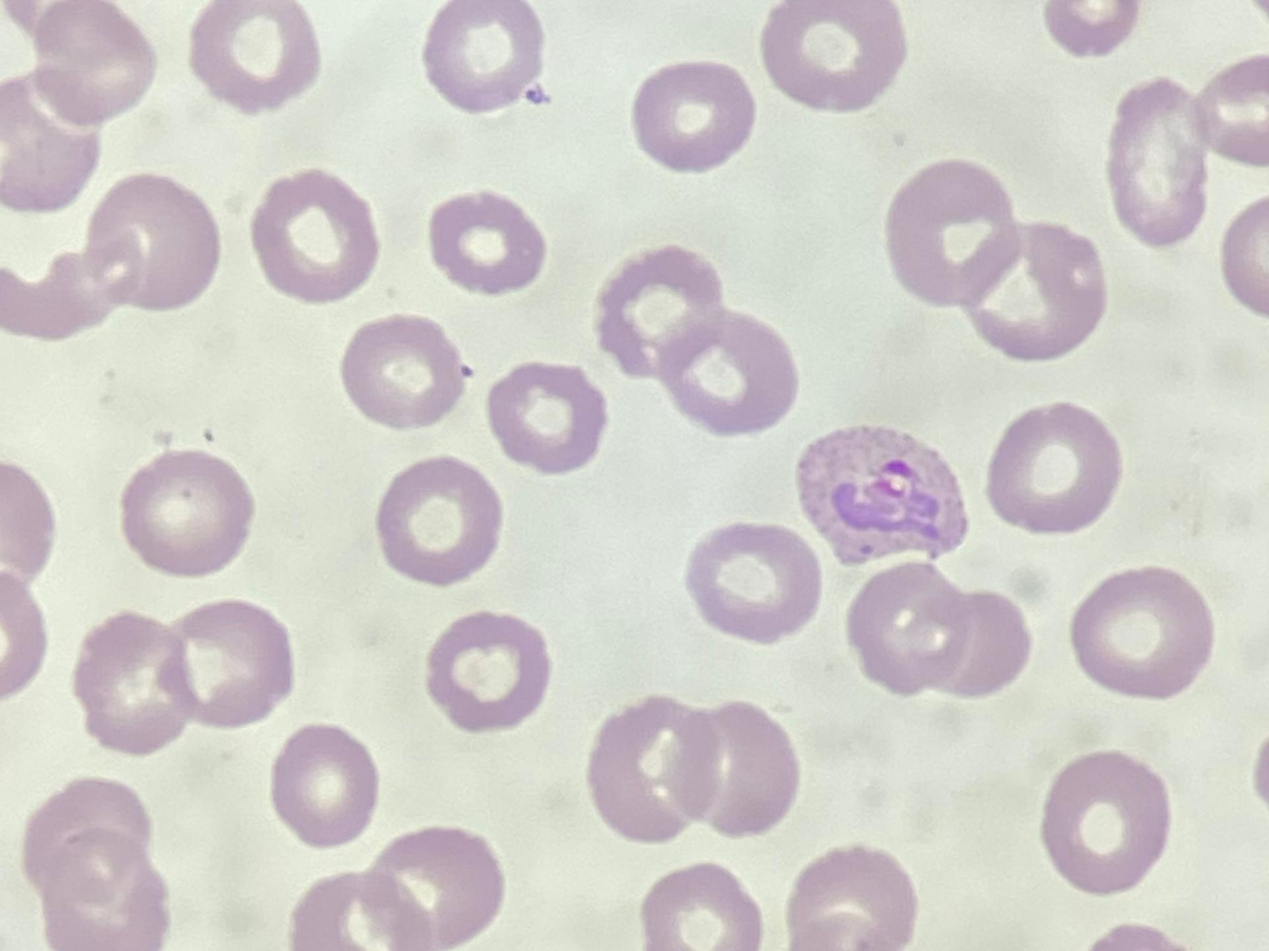Infected: (301, 385, 471, 525)
Uninfected: (162, 590, 303, 732), (247, 645, 384, 789), (545, 108, 679, 249), (56, 251, 197, 383), (101, 55, 227, 196), (471, 515, 611, 640), (1050, 642, 1180, 775), (146, 416, 278, 545), (542, 575, 673, 704), (1015, 373, 1146, 501), (59, 706, 161, 870), (889, 650, 1017, 780), (1073, 198, 1194, 335), (447, 308, 582, 428), (364, 840, 507, 951), (766, 3, 900, 121), (767, 366, 891, 492), (304, 258, 420, 390), (1099, 0, 1227, 119), (974, 224, 1095, 348), (1114, 825, 1239, 945), (717, 218, 843, 336), (470, 113, 579, 245), (948, 839, 1077, 950), (1124, 55, 1247, 171), (801, 521, 926, 634), (350, 0, 477, 110), (660, 476, 784, 588), (238, 248, 358, 361), (514, 779, 636, 890), (722, 839, 845, 949), (891, 102, 998, 223), (1170, 739, 1268, 871), (724, 656, 841, 760), (1154, 610, 1269, 708), (501, 0, 627, 86), (861, 3, 982, 83)
